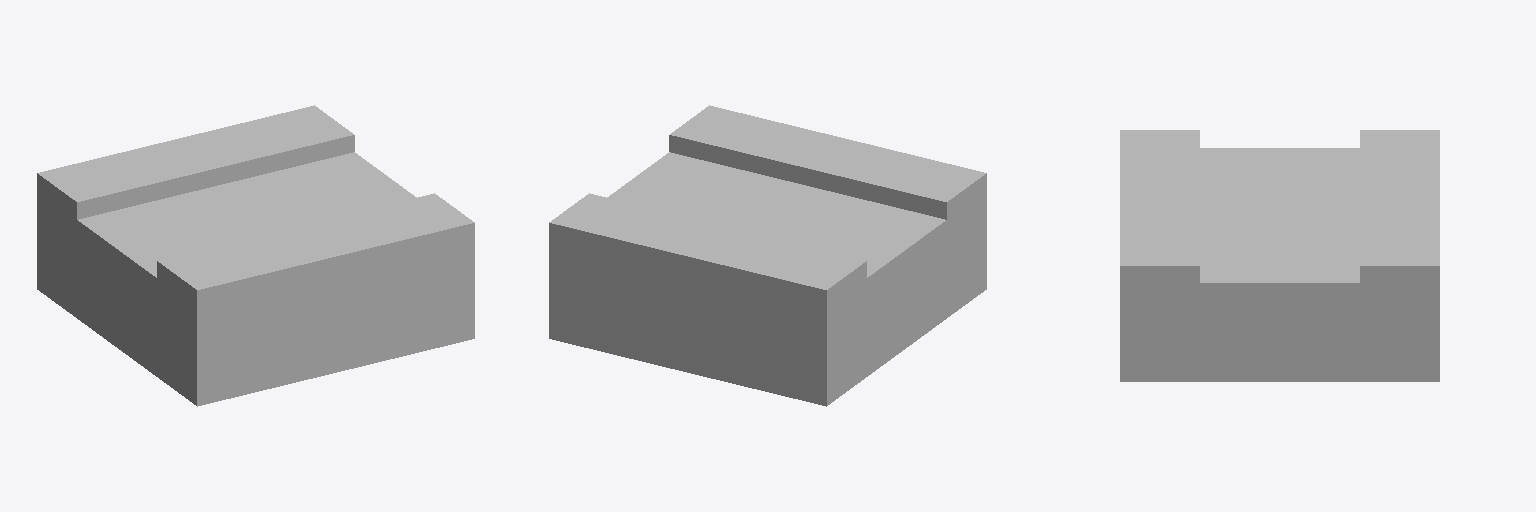
The model's file is tile_086.obj.
The picture shows the model from 3 angles: view 1: azimuth 30°, elevation 25°; view 2: azimuth 150°, elevation 25°; view 3: azimuth 270°, elevation 25°; orthographic projection.
Parts seen in each view (by area): view 1: tile_086; view 2: tile_086; view 3: tile_086.
Boxes of the visible parts, box(x1,y1,x2,y2) form: tile_086: box(37, 105, 474, 406); tile_086: box(549, 105, 986, 406); tile_086: box(1120, 130, 1439, 381).
Bounding box in the file's own units: 1 × 0.4 × 1.